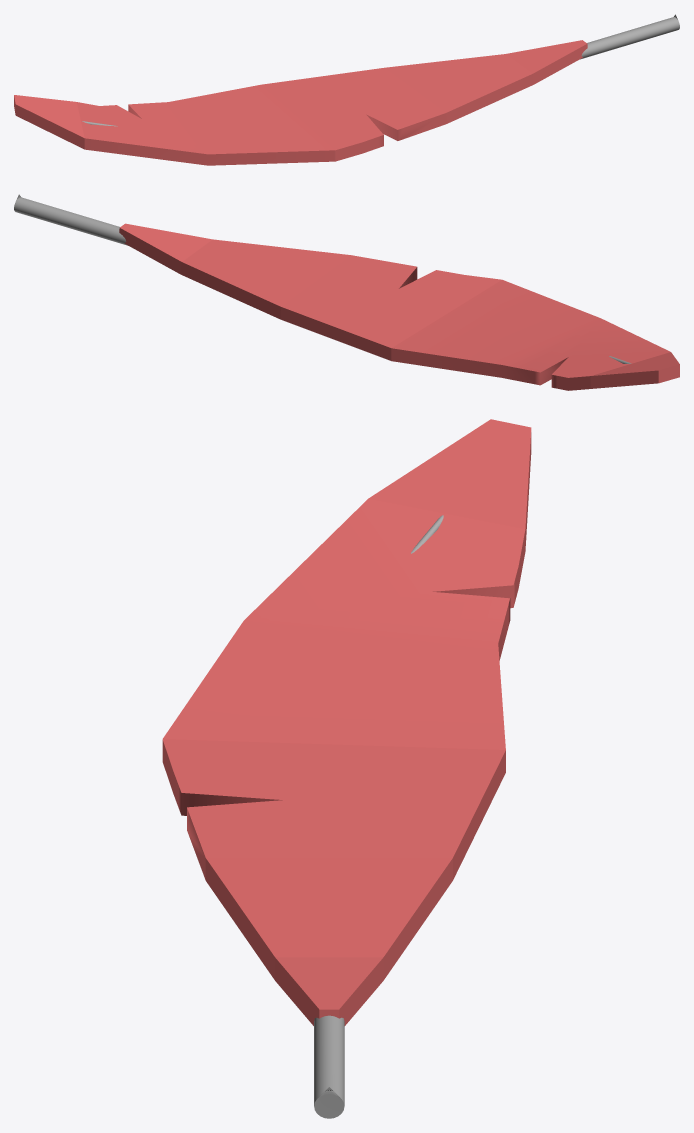
Rendered from Feather.fbx.
The picture shows the model from 3 angles, top to bottom: view 1: azimuth 30°, elevation 25°; view 2: azimuth 150°, elevation 25°; view 3: azimuth 270°, elevation 25°; orthographic projection. The views are drawn at different scales.
Visible parts, largest first — view 1: Feather; view 2: Feather; view 3: Feather.
Part boxes in pixels (x1,y1,x2,y2): Feather: [14, 14, 679, 165]; Feather: [14, 194, 679, 390]; Feather: [162, 419, 531, 1118].
Bounding box in the file's own units: 88.32 × 7.72 × 22.74.
